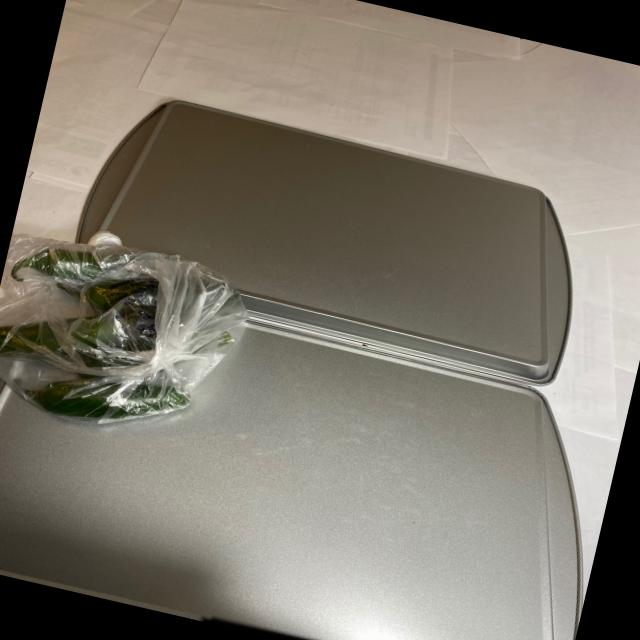chilli: (0, 229, 253, 446)
